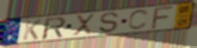C: (127, 8, 151, 31)
F: (150, 5, 177, 31)
K: (22, 19, 43, 41)
R: (42, 16, 68, 41)
S: (98, 11, 120, 34)
X: (71, 13, 97, 37)
